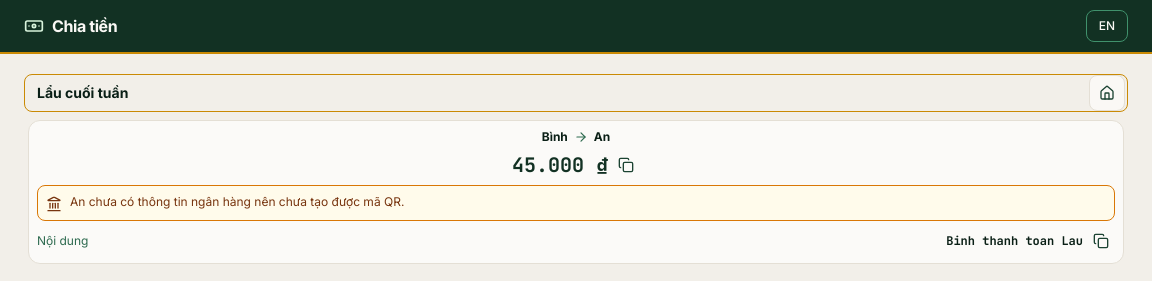
Test: Song ngữ (Epic 9) › trang Snapshot có công tắc; đổi ngôn ngữ đổi toàn bộ nội dung mà không ghi IndexedDB (AC-6)
Expected: the list item with aria-label "Thanh toán Bình cho An" is shown, [24,120,1128,264]
Expected: the message named "Chế độ xem Snapshot" is shown, [24,74,1128,112]
Click the button "EN" at (1107, 26), box [1086,10,1128,42]
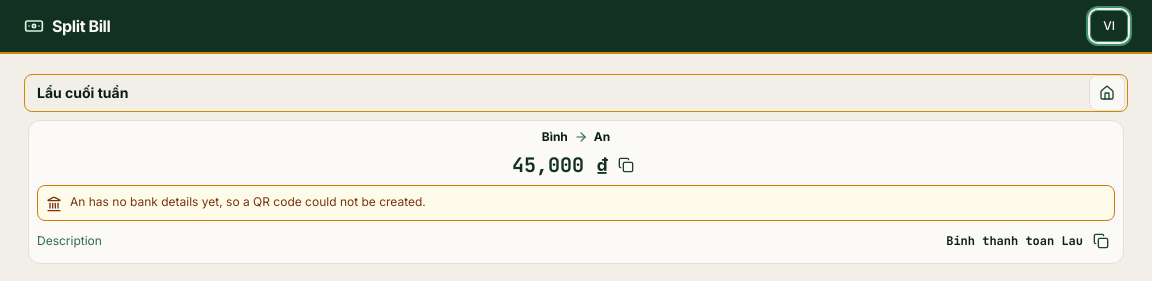
Expected: the message named "Snapshot view" is shown, [24,74,1128,112]
Expected: the list item with aria-label "Payment Bình to An" is shown, [24,120,1128,264]
